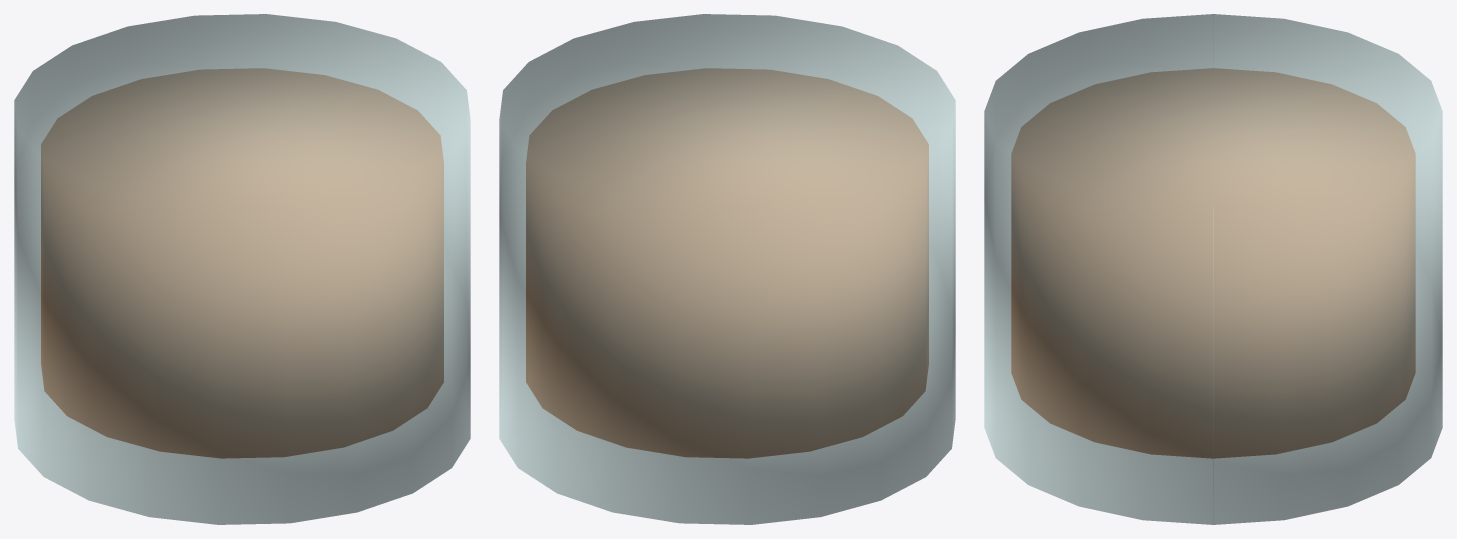
The model's file is cay_bardagi.glb.
3 views of the same model, side by side, from view 1: azimuth 30°, elevation 25°; view 2: azimuth 150°, elevation 25°; view 3: azimuth 270°, elevation 25° (orthographic).
Parts seen in each view (by area): view 1: İnceBelliBardak, ÇaySıvısı; view 2: İnceBelliBardak, ÇaySıvısı; view 3: İnceBelliBardak, ÇaySıvısı.
Part boxes in pixels (x1,y1,x2,y2): İnceBelliBardak: (14,14,470,524); ÇaySıvısı: (41,68,443,458); İnceBelliBardak: (499,14,955,524); ÇaySıvısı: (526,68,928,458); İnceBelliBardak: (984,14,1442,524); ÇaySıvısı: (1011,68,1415,458).
Size of the model in its own units: 0.68 by 0.52 by 0.68.
